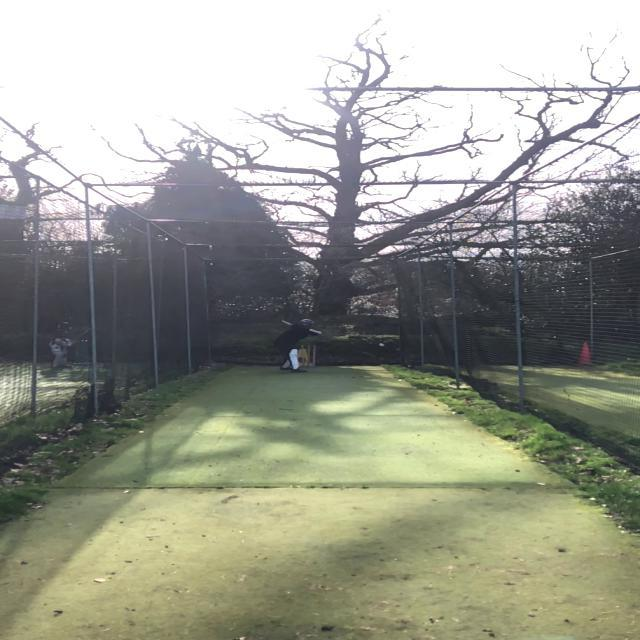ball: (378, 342, 385, 348)
